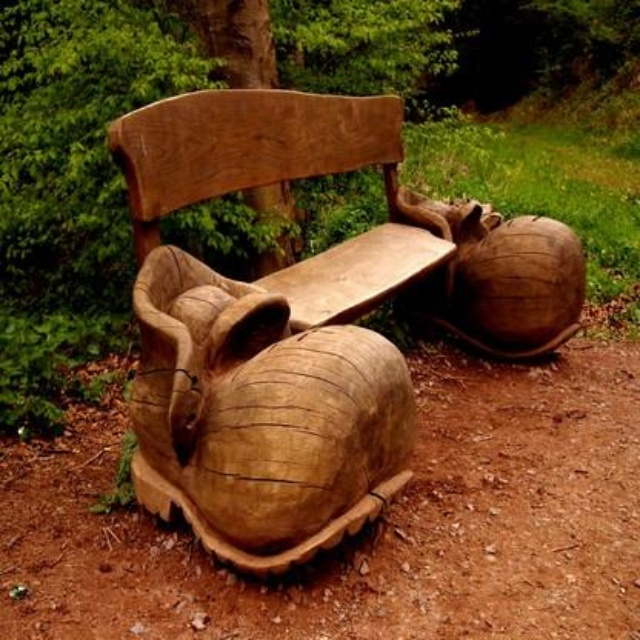obstacle: (86, 72, 522, 534)
